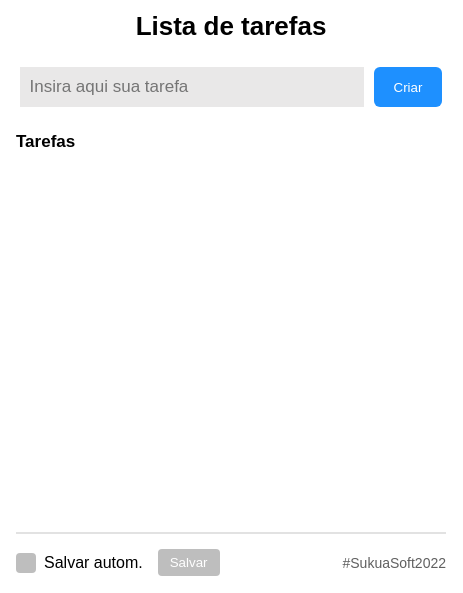
My first test › delete task when delete button is clicked
Type "Minha nova tarefa" into the field named "task" at (192, 87), box [20,67,364,107]
Then press Enter
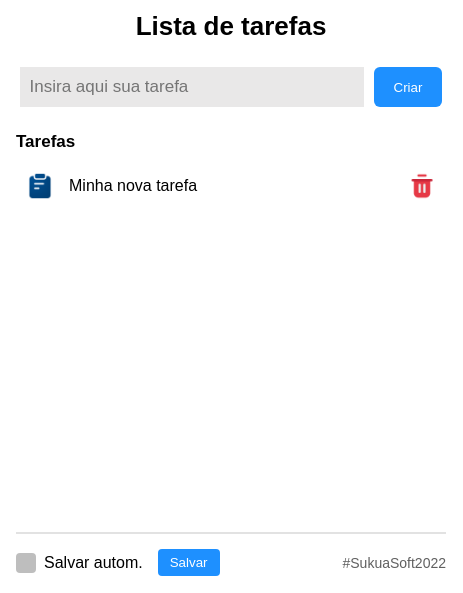
Result: the text "Minha nova tarefa" is shown at [69,177,197,195]
Click the button with class "btn-remove" at (422, 186), box [408,172,436,200]
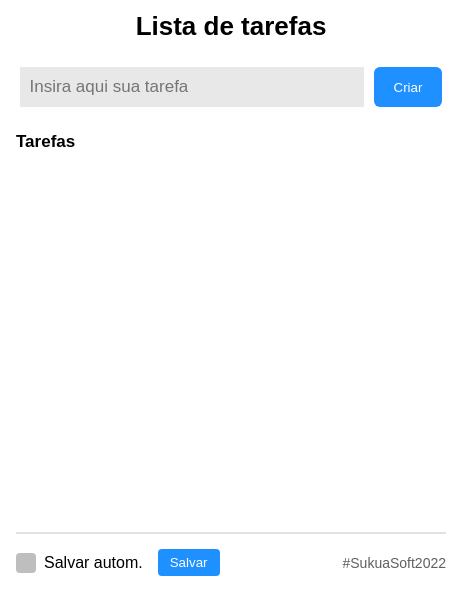
Result: the text "Minha nova tarefa" is gone
